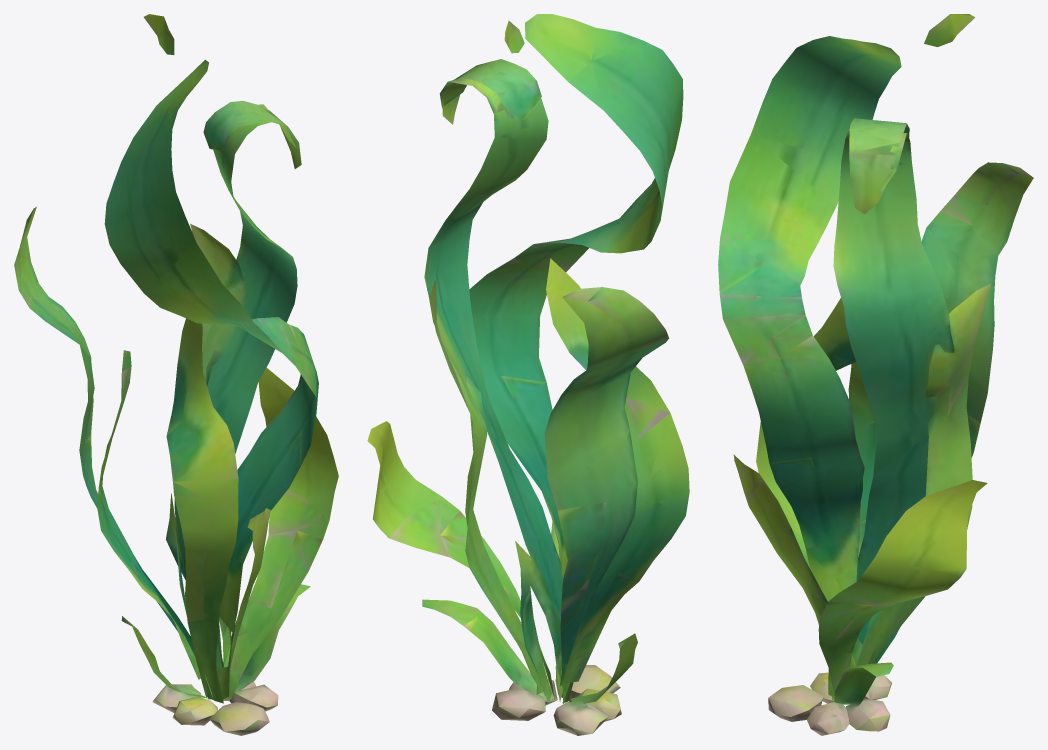
The model's file is alga_3_800.glb.
3 renders of one model, left to right at view 1: azimuth 30°, elevation 25°; view 2: azimuth 150°, elevation 25°; view 3: azimuth 270°, elevation 25°, orthographic. The views are drawn at different scales.
Visible parts, largest first — view 1: alga_3_malla; view 2: alga_3_malla; view 3: alga_3_malla.
Part boxes in pixels (bbox=[...]): alga_3_malla: bbox=[14, 14, 338, 735]; alga_3_malla: bbox=[367, 14, 689, 735]; alga_3_malla: bbox=[718, 14, 1033, 735].
Bounding box in the file's own units: 0.1875 × 0.428 × 0.1746.
Materials: 1 (1 with a texture image).
